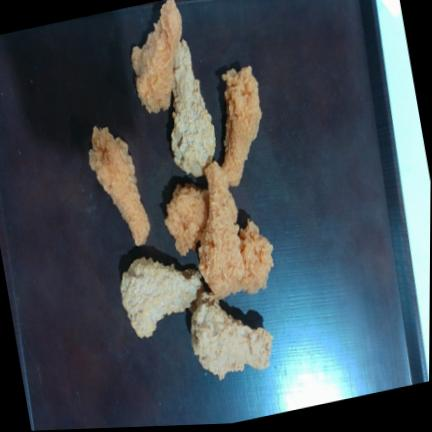chicken: (89, 126, 150, 246), (191, 290, 273, 379), (121, 258, 203, 337), (199, 162, 245, 298), (171, 39, 216, 177), (131, 0, 182, 112), (222, 65, 262, 186)
